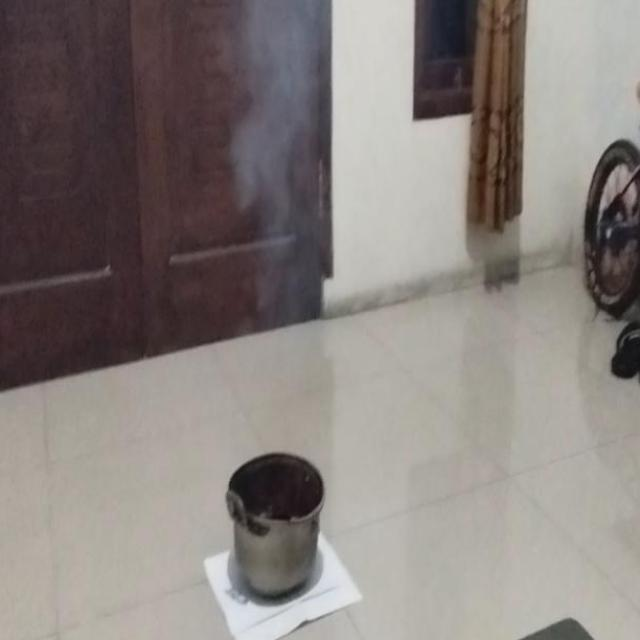fire: (232, 0, 328, 310)
